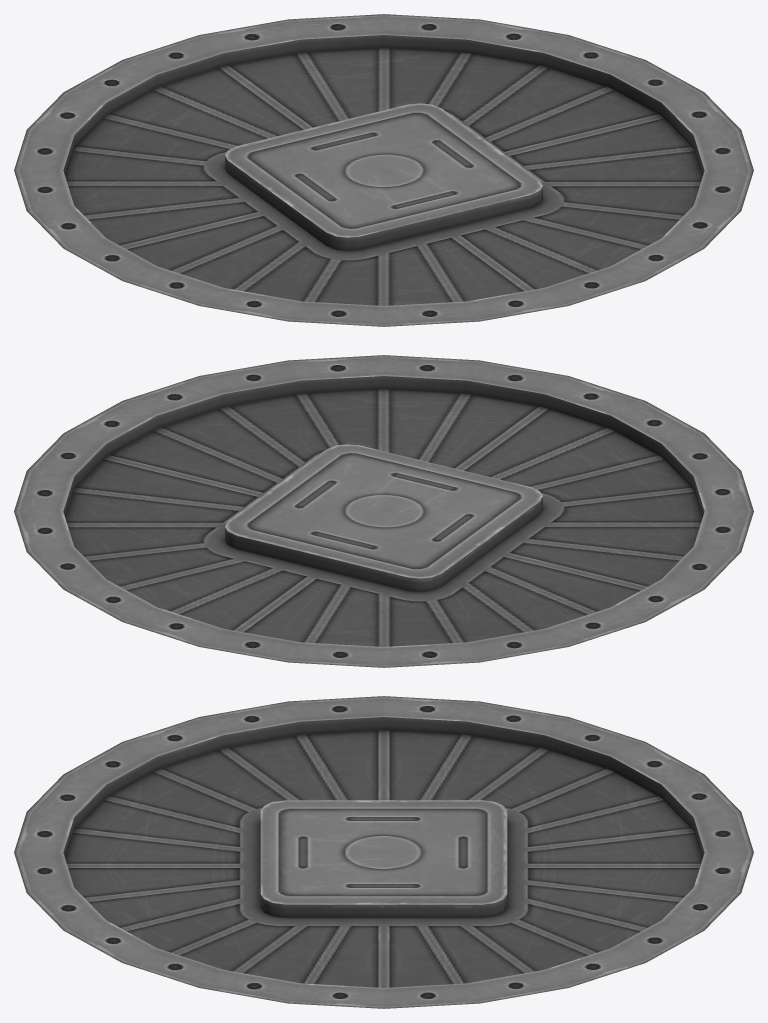
The model's file is end_crew_s1p5.obj.
The picture shows the model from 3 angles, top to bottom: view 1: azimuth 30°, elevation 25°; view 2: azimuth 150°, elevation 25°; view 3: azimuth 270°, elevation 25°; orthographic projection.
Visible parts, largest first — view 1: mesh1; view 2: mesh1; view 3: mesh1.
Part boxes in pixels (left/top/right/bottom): mesh1: left=14, top=14, right=753, bottom=326; mesh1: left=14, top=355, right=753, bottom=667; mesh1: left=14, top=696, right=753, bottom=1008.
Size of the model in its own units: 1.88 by 0.0375 by 1.88.
Materials: 1 (1 with a texture image).
